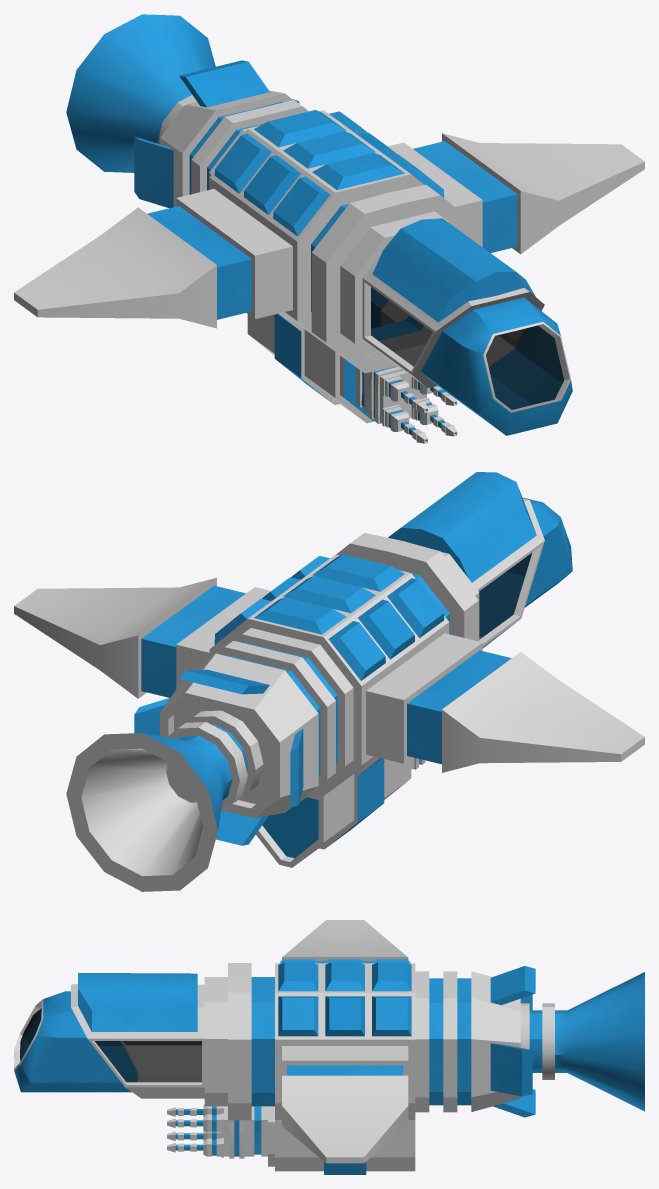
Rendered from BDC.fbx.
3 views of the same model, one above another, from view 1: azimuth 30°, elevation 25°; view 2: azimuth 150°, elevation 25°; view 3: azimuth 270°, elevation 25° (orthographic). The views are drawn at different scales.
Parts seen in each view (by area): view 1: BDC; view 2: BDC; view 3: BDC.
Boxes of the visible parts, x1,y1,x2,y2 form: BDC: [14, 14, 644, 443]; BDC: [14, 472, 644, 891]; BDC: [14, 920, 644, 1174].
Size of the model in its own units: 8 by 3.15 by 8.99.
